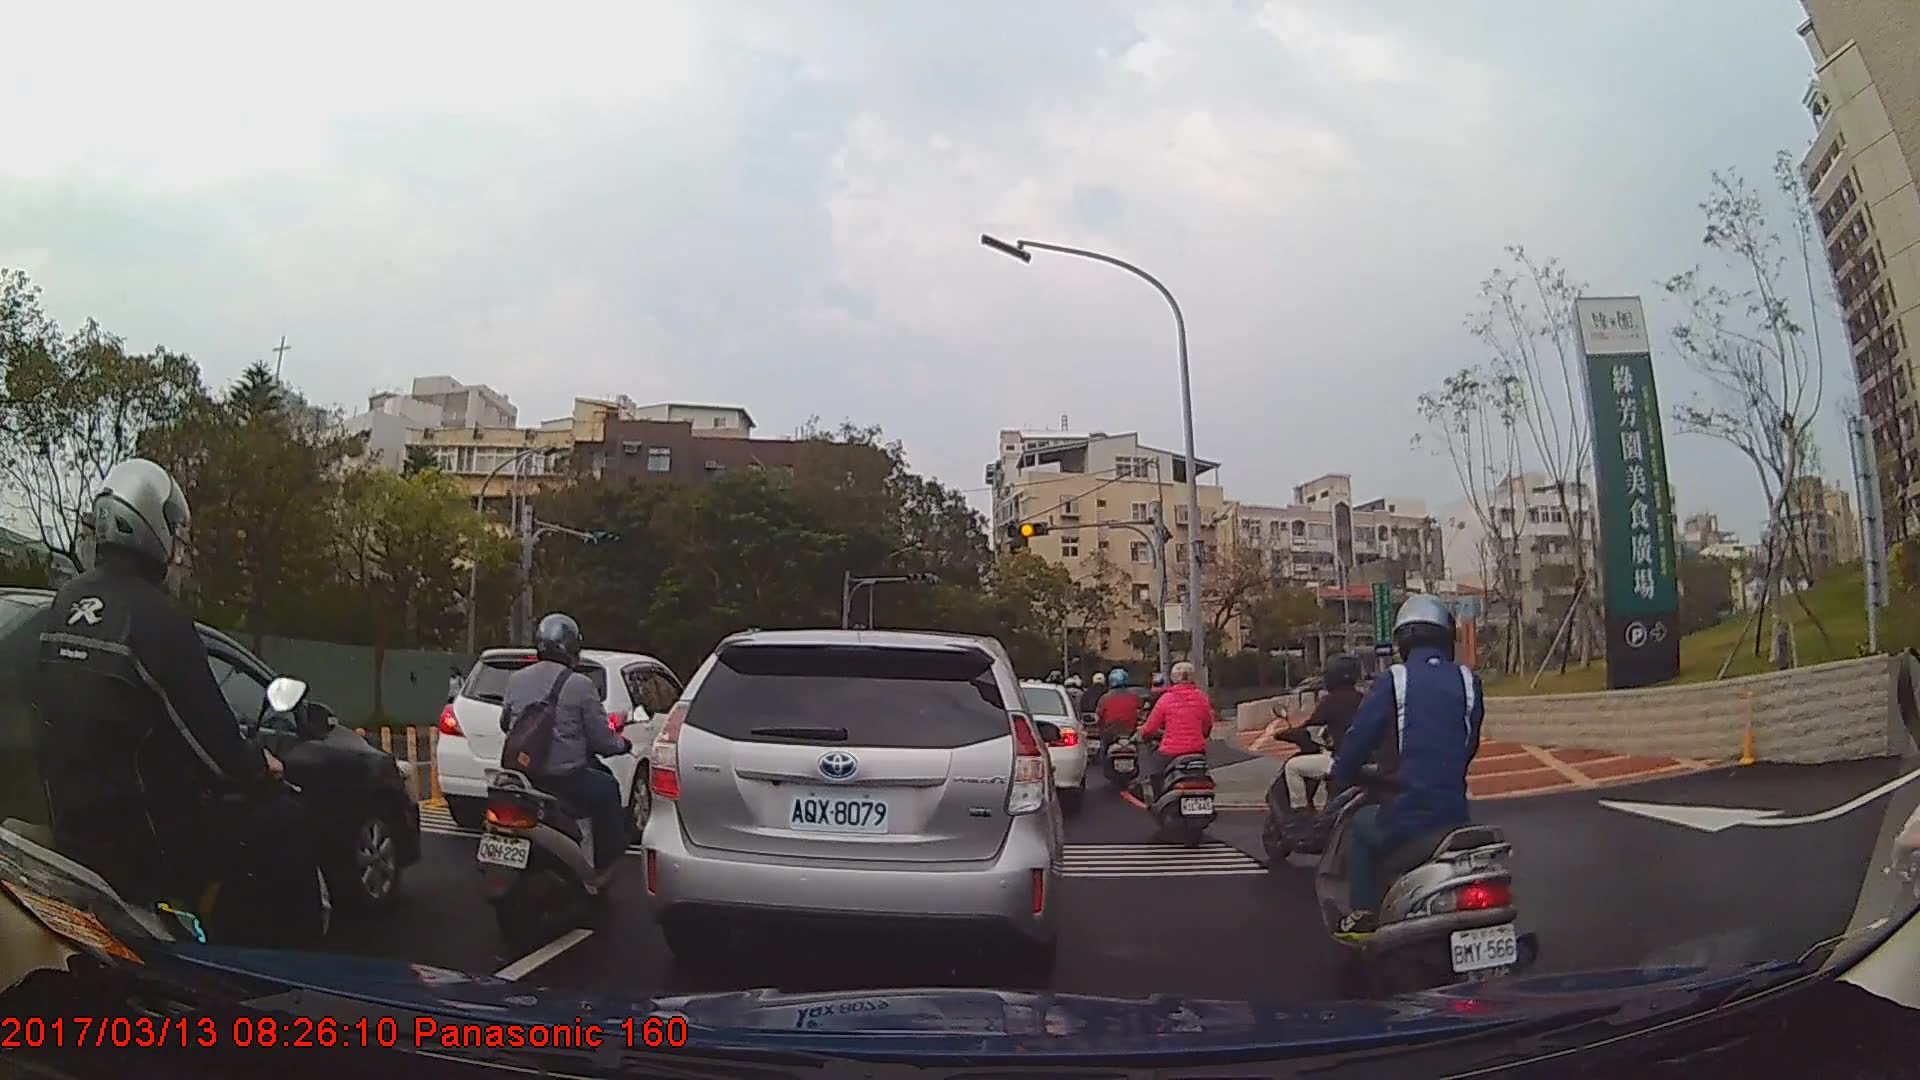pedestrian: (447, 666, 468, 727)
rider: (1, 458, 335, 1045), (1310, 596, 1537, 1021), (478, 617, 643, 940), (1254, 654, 1433, 869), (1145, 663, 1216, 855), (1091, 667, 1147, 791), (1079, 673, 1110, 768)
vehicle: (635, 626, 1063, 986), (0, 583, 420, 940), (434, 648, 706, 838), (978, 682, 1087, 805)
